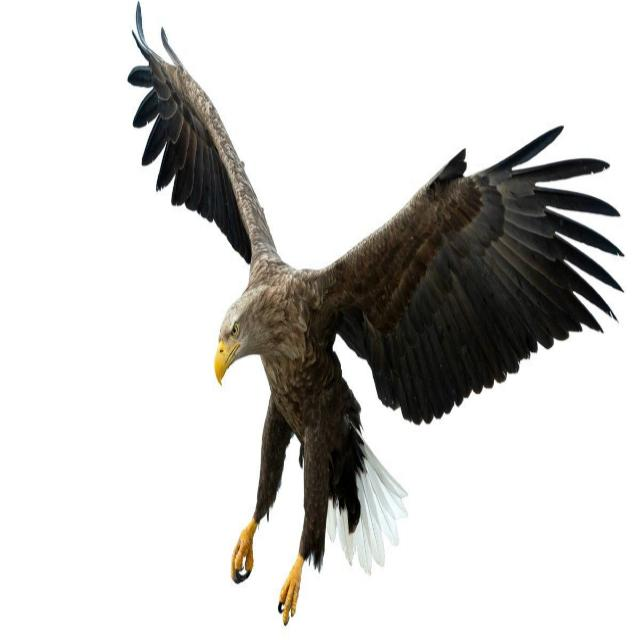eagle: (129, 4, 621, 623)
